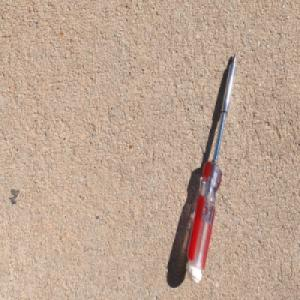Screwdriver: (184, 50, 238, 284)
